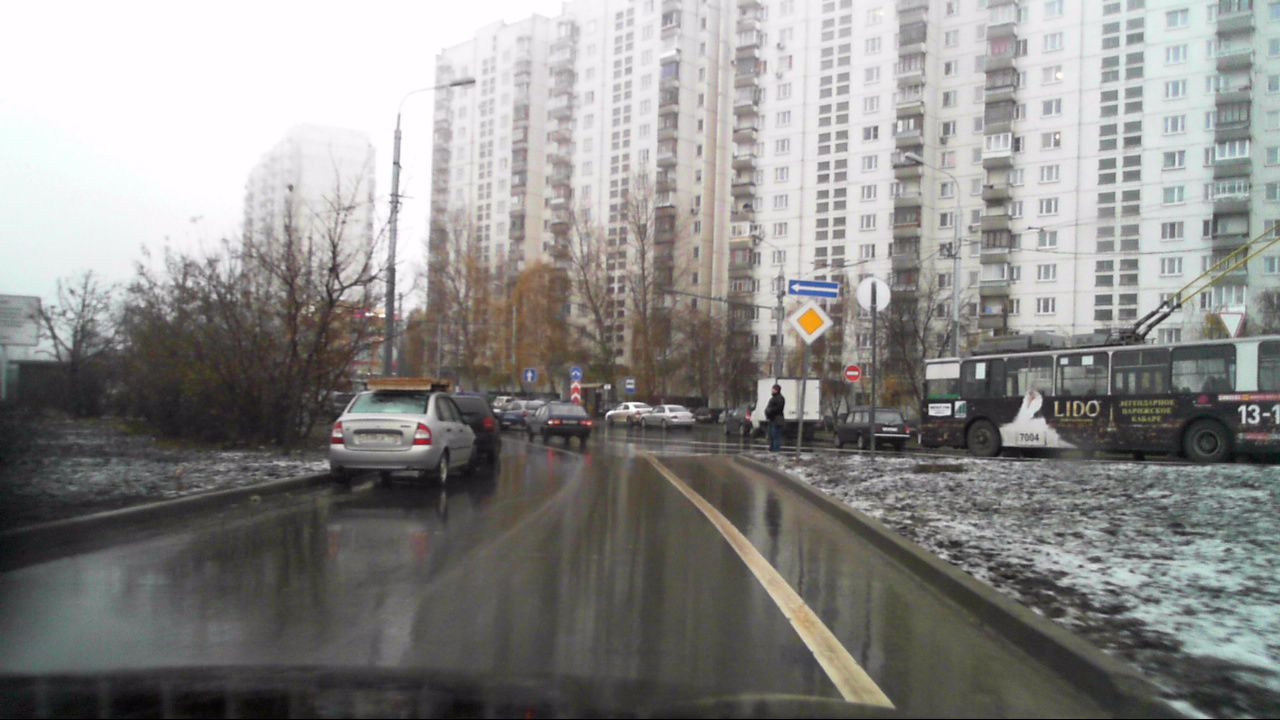One-Way Traffic: (789, 280, 839, 296)
